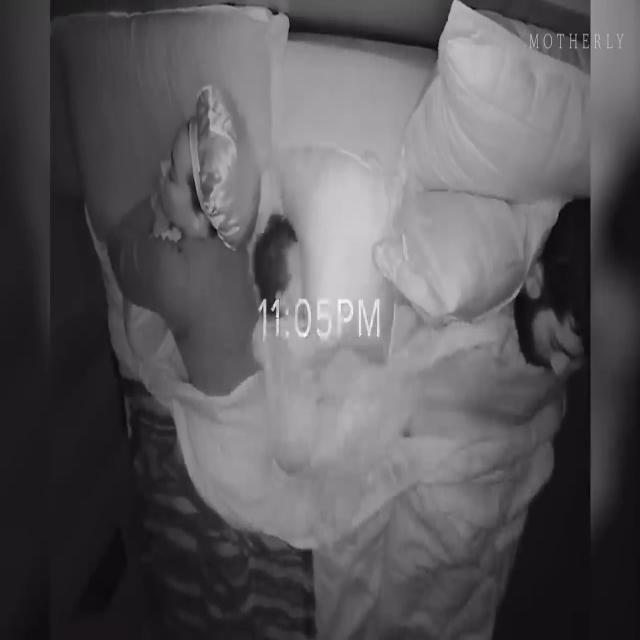baby: (253, 224, 325, 477)
